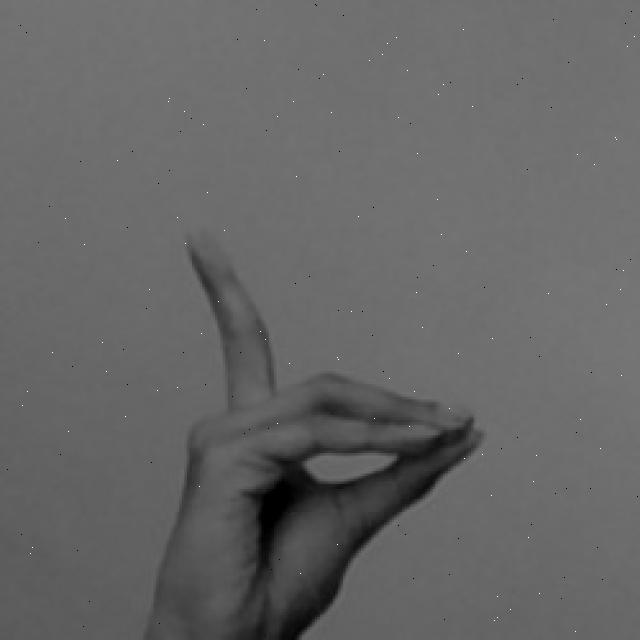D: (143, 225, 489, 640)
